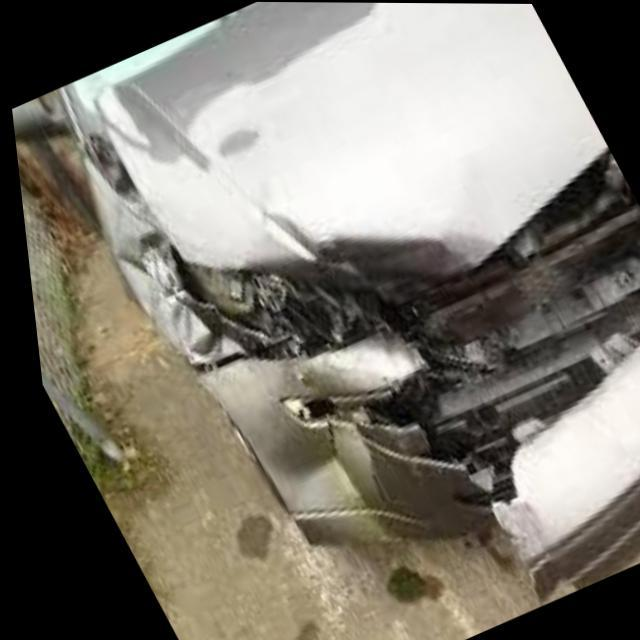crash: (74, 70, 640, 595)
